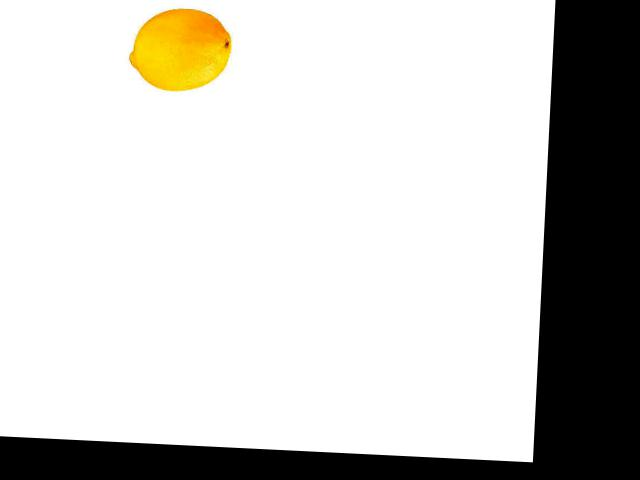lemon: (125, 4, 234, 96)
